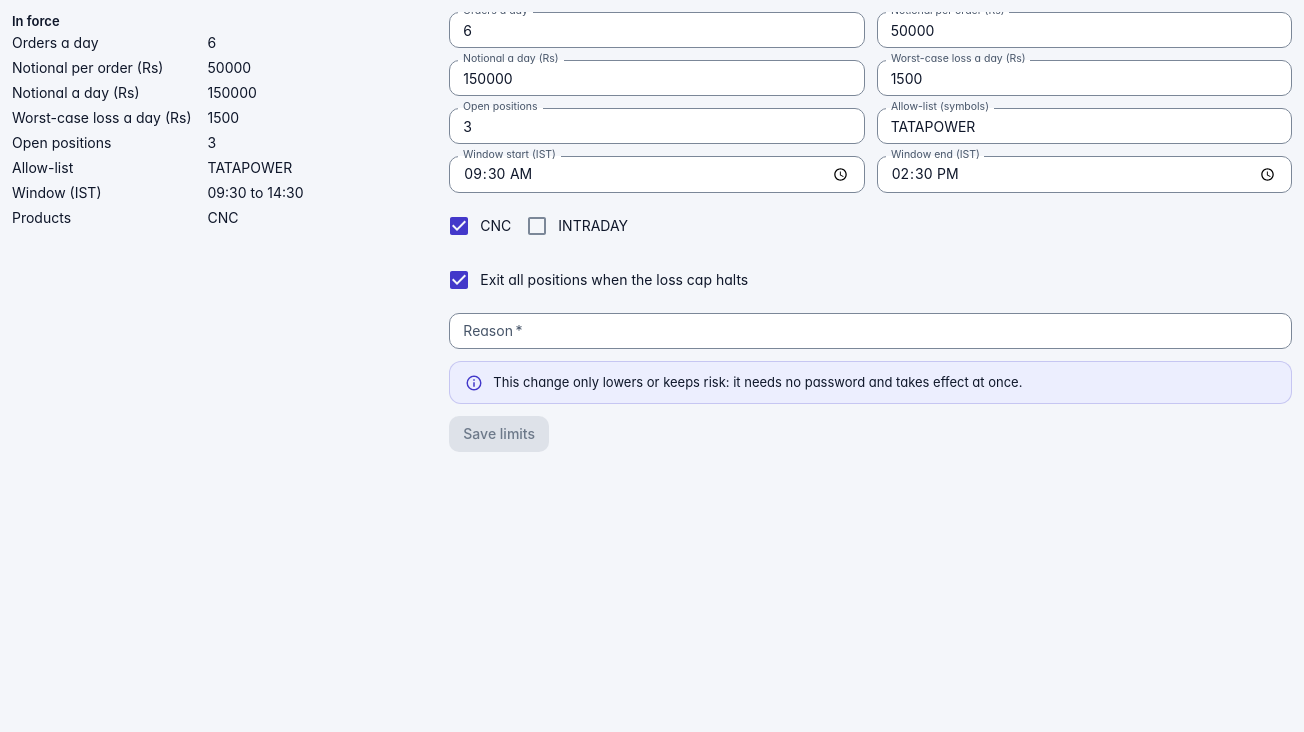
Test: Limits form › marks a raise, asks the password and sends it; a pure lowering needs none
Expected: the text "only lowers or keeps risk: it needs no password" is shown, x1=493 y1=374 x2=1022 y2=390
Replace the text in the number field labelled "Orders a day" with "8" at {"x": 657, "y": 30}, box x1=449 y1=12 x2=865 y2=48
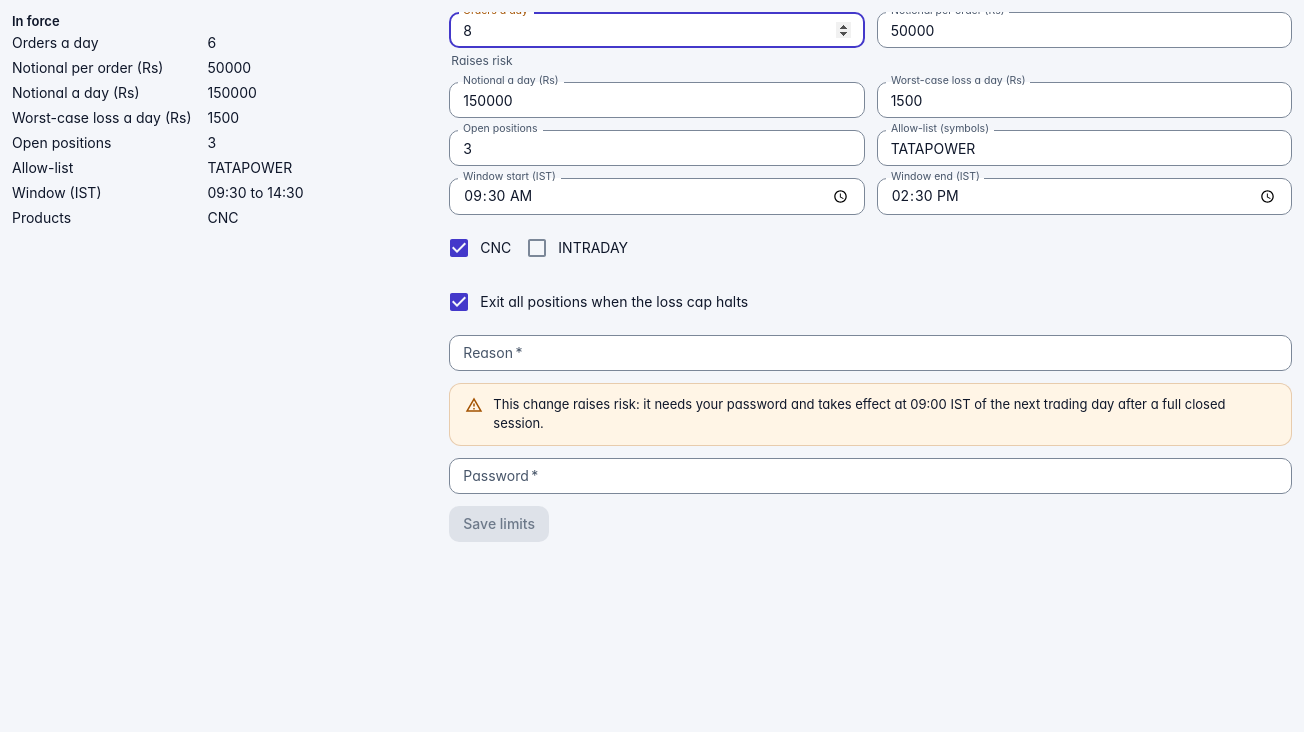
Expected: the button "Save limits" is disabled, x1=449 y1=506 x2=549 y2=542
Expected: the text "Raises risk" is shown, x1=451 y1=53 x2=513 y2=68
Expected: the text "needs your password and takes effect at 09:00 IST of the next trading day" is shown, x1=493 y1=396 x2=1226 y2=431
Type "more room" into the field labelled "Reason *" at {"x": 871, "y": 353}, box x1=449 y1=334 x2=1292 y2=371
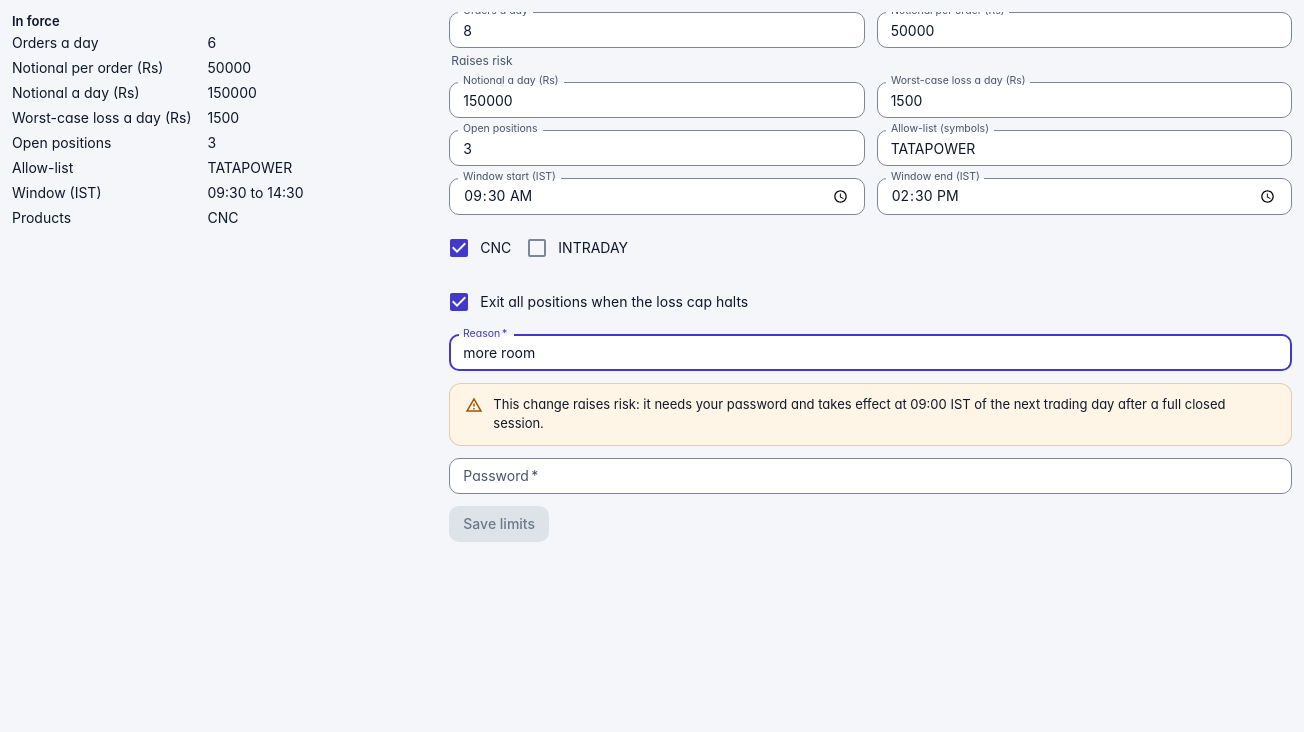
Type "pw" into the password field labelled "Password *" at {"x": 871, "y": 476}, box x1=449 y1=458 x2=1292 y2=494
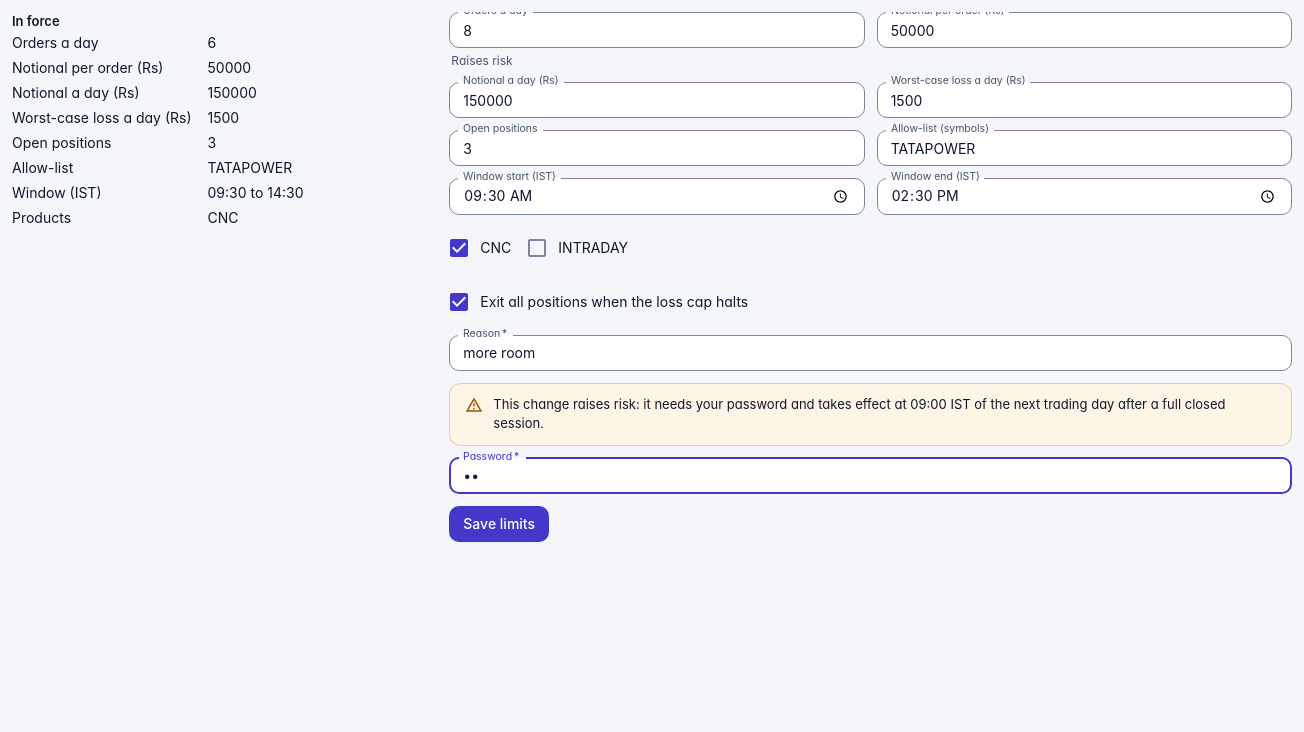
Click the button "Save limits" at {"x": 499, "y": 524}, box x1=449 y1=506 x2=549 y2=542
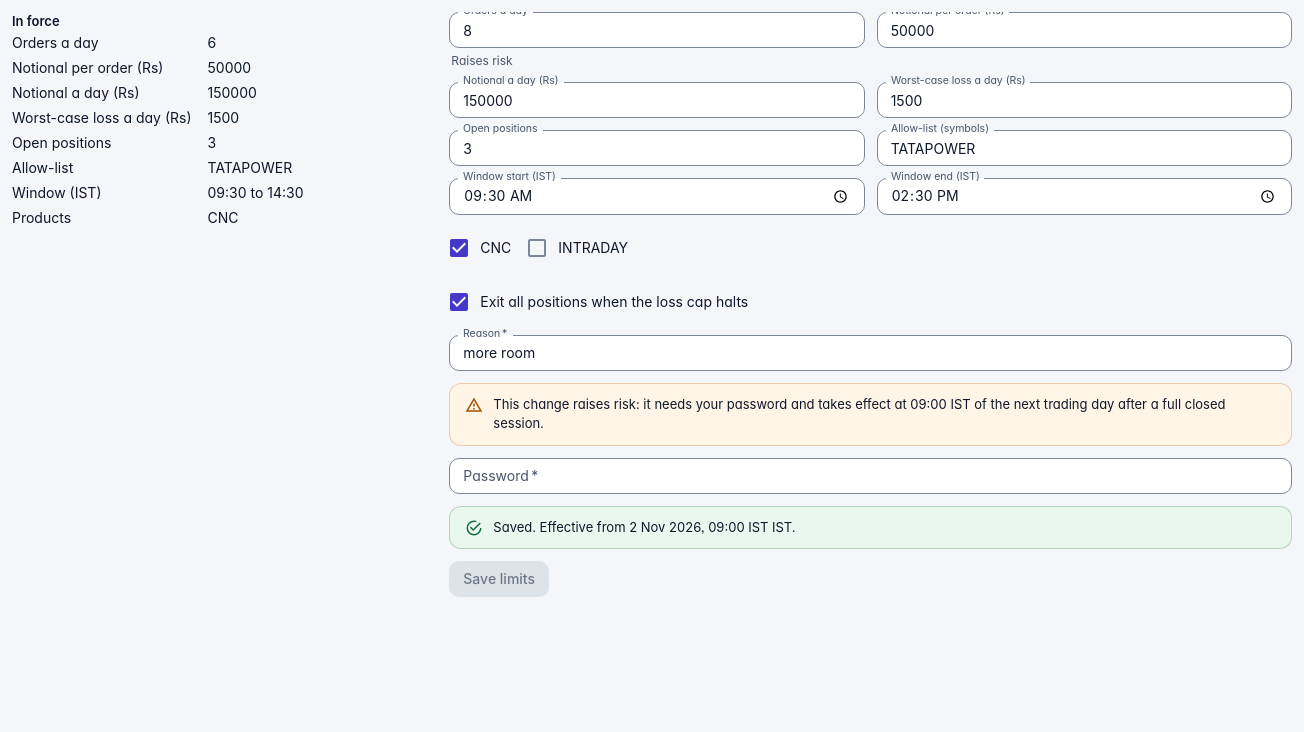
Expected: the text "Saved. Effective from 2 Nov 2026, 09:00 IST IST." is shown, x1=493 y1=518 x2=796 y2=537
